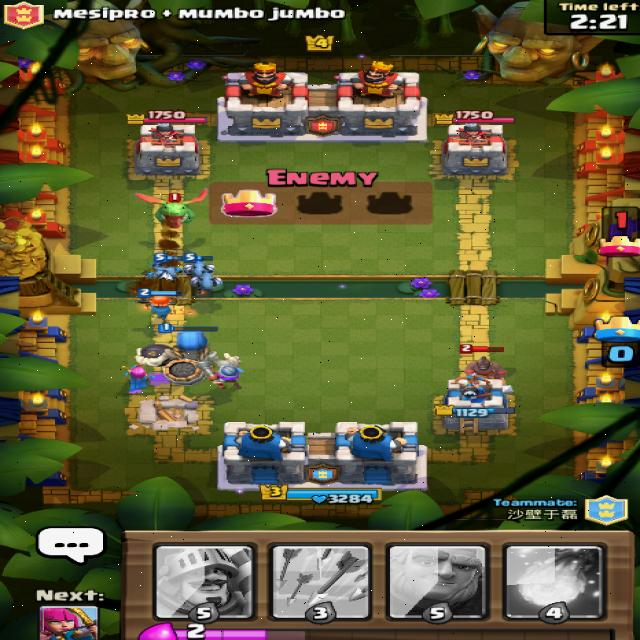Enemy-BabyDragon: (134, 187, 208, 228)
Enemy-HogRider: (454, 343, 506, 378)
Player-Archer: (119, 361, 154, 392)
Player-GiantSkeleton: (134, 322, 240, 384)
Player-Minion: (140, 253, 183, 282), (181, 251, 216, 275), (188, 269, 221, 290)
Player-Musketeer: (194, 358, 243, 391)
Player-Valkyrie: (132, 287, 183, 321)
